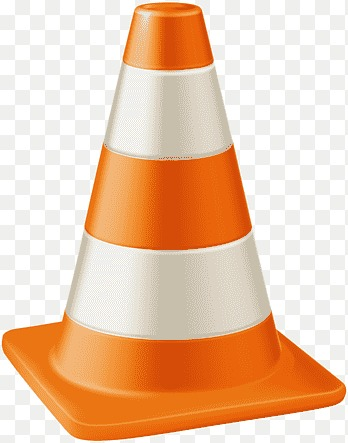cones: (1, 1, 348, 439)
